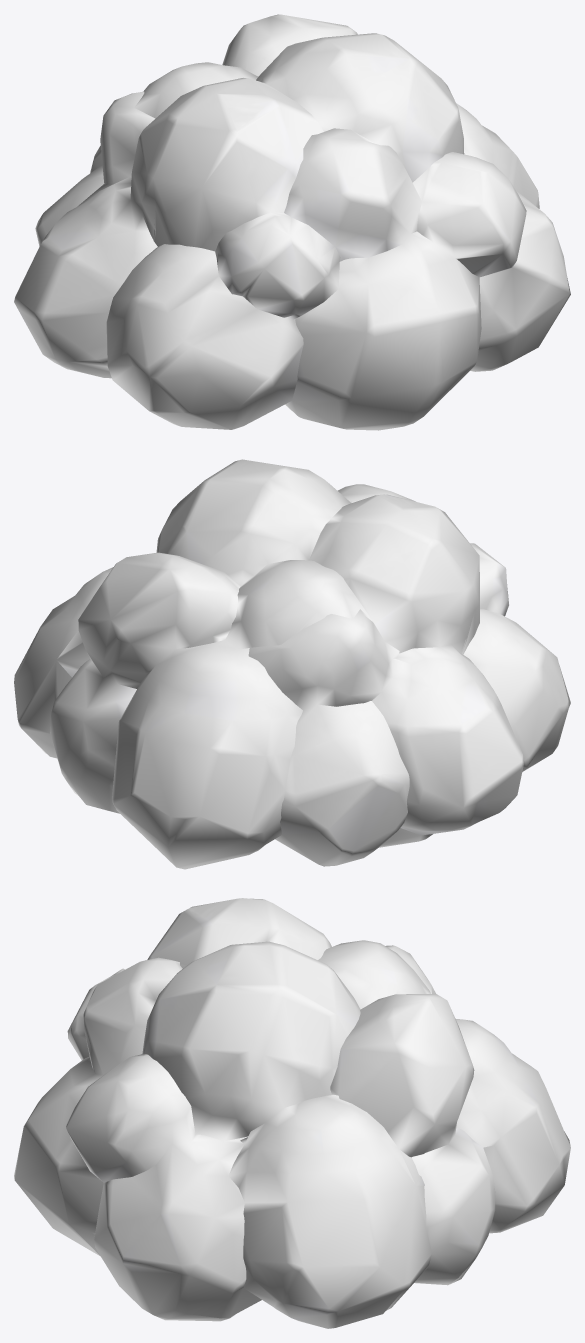
The model's file is cloud.glb.
3 renders of one model, top to bottom at view 1: azimuth 30°, elevation 25°; view 2: azimuth 150°, elevation 25°; view 3: azimuth 270°, elevation 25°, orthographic. The views are drawn at different scales.
Size of the model in its own units: 0.9575 by 0.6128 by 0.9303.
1 material, 1 textured.
